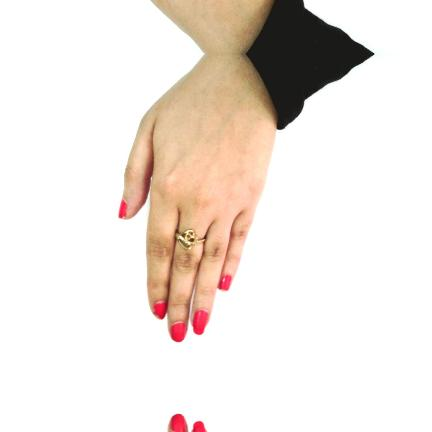Nail: (193, 310, 209, 335), (170, 323, 186, 342), (170, 414, 186, 432), (153, 302, 167, 320), (218, 275, 232, 291), (118, 199, 127, 218), (193, 421, 207, 432)
